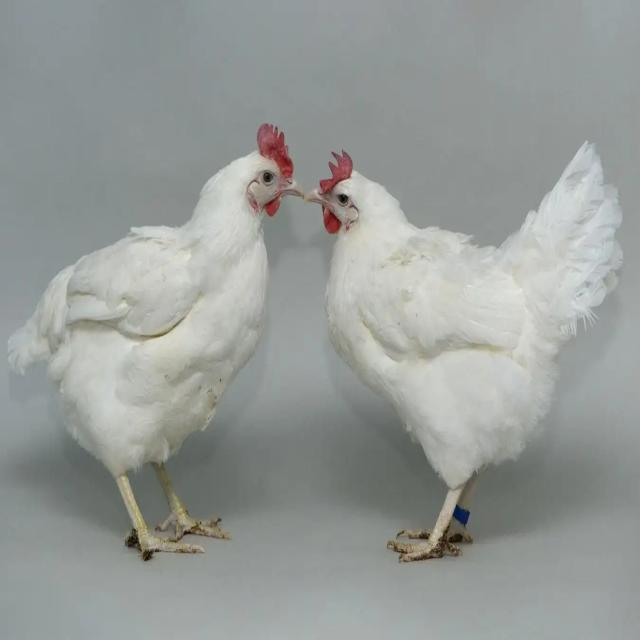allo preening: (21, 36, 621, 586)
